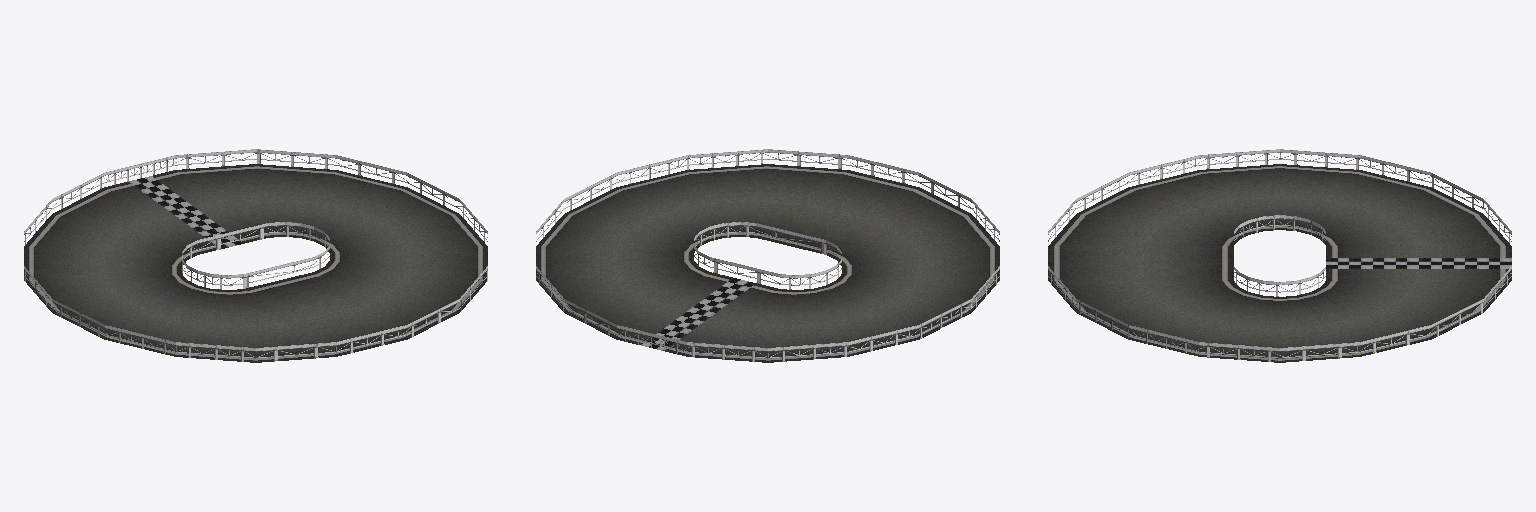
The picture shows the model from 3 angles: view 1: azimuth 30°, elevation 25°; view 2: azimuth 150°, elevation 25°; view 3: azimuth 270°, elevation 25°; orthographic projection.
Visible parts, largest first — view 1: polygon0; view 2: polygon0; view 3: polygon0.
Part boxes in pixels (x1,y1,x2,y2): polygon0: (24,149,487,362); polygon0: (536,149,999,362); polygon0: (1048,149,1511,362).
Bounding box in the file's own units: 12.66 × 0.4439 × 12.47.
Materials: 3 (3 with a texture image).